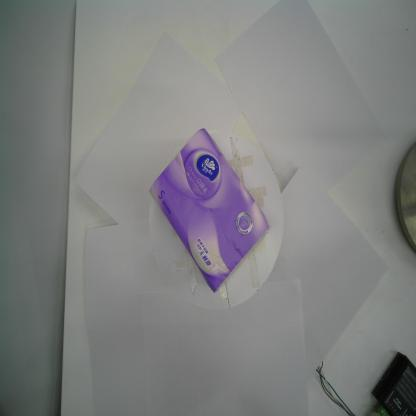Tissue: (149, 123, 276, 296)
